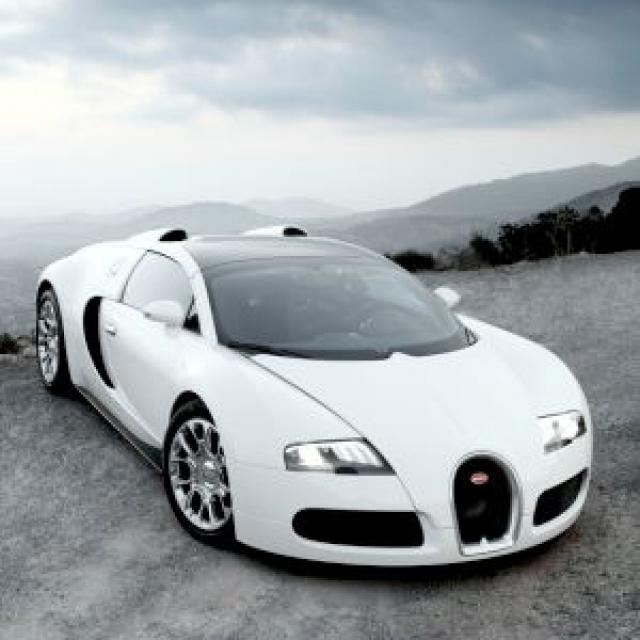car: (32, 225, 595, 568)
